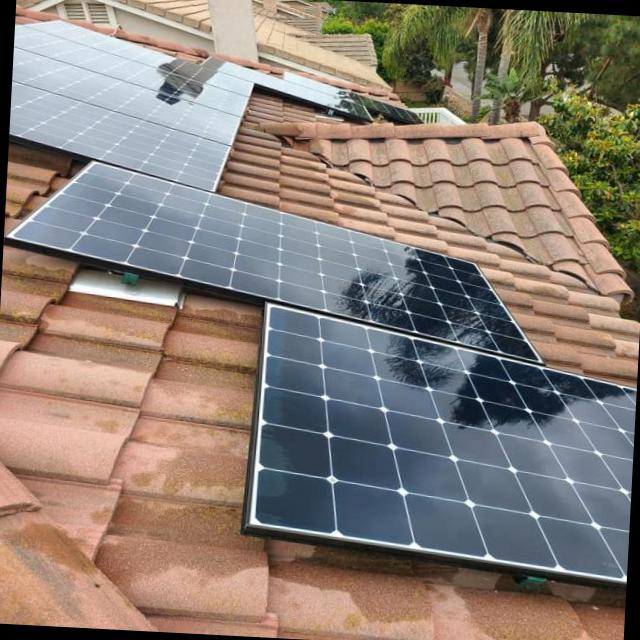no faulty: (254, 302, 635, 581), (12, 158, 535, 356), (14, 79, 231, 189), (12, 45, 242, 143)
